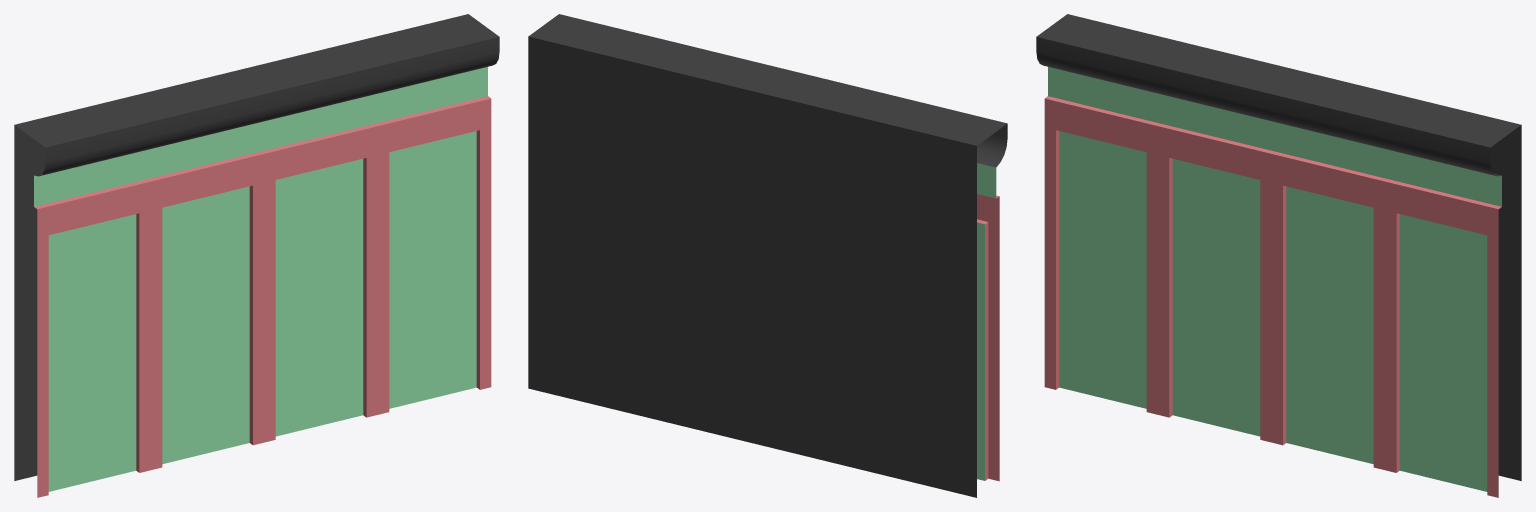
Rendered from ShipWall4m.fbx.
3 views of the same model, side by side, from view 1: azimuth 30°, elevation 25°; view 2: azimuth 150°, elevation 25°; view 3: azimuth 330°, elevation 25° (orthographic).
Parts seen in each view (by area): view 1: Wall4m; view 2: Wall4m; view 3: Wall4m.
Boxes of the visible parts, x1=… form: Wall4m: x1=14, y1=14, x2=499, y2=497; Wall4m: x1=528, y1=14, x2=1007, y2=497; Wall4m: x1=1036, y1=14, x2=1521, y2=497.
Bounding box in the file's own units: 4 × 3 × 0.475.
